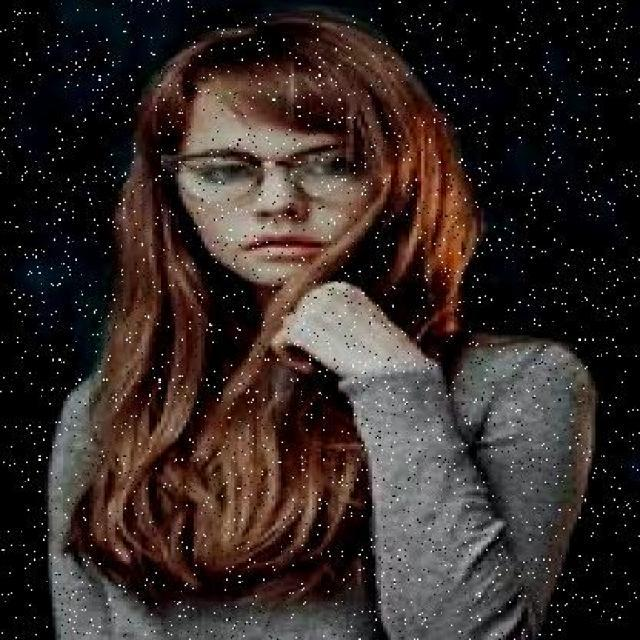glasses: (148, 128, 417, 217)
